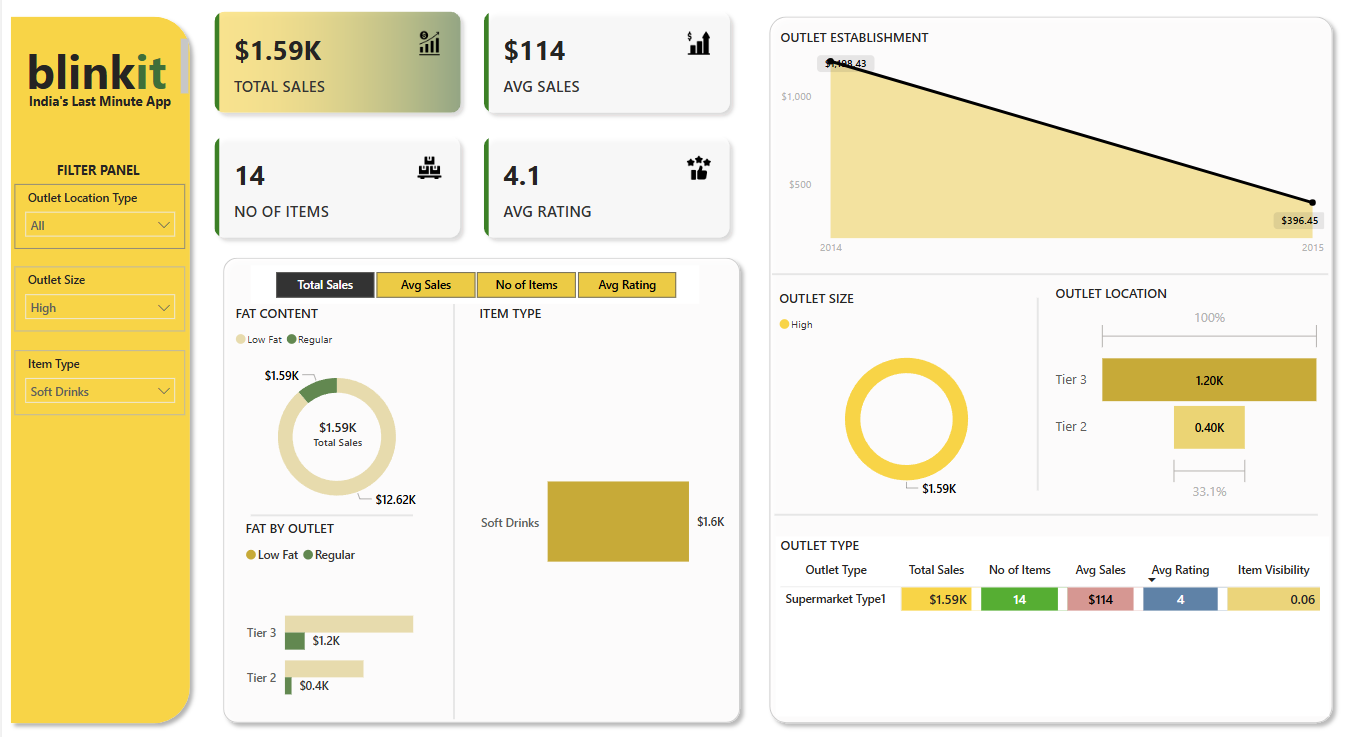

Layout of this report page (visuals, bound fields, positions):
{"tool":"powerbi","page":{"name":"Page 1","canvas":[1400,800],"ordinal":0},"visuals":[{"type":"shape","box":[0,24.1,203.8,750.7],"z":0},{"type":"textbox","box":[5.4,52.3,193,77.7],"z":1000},{"type":"textbox","box":[13.4,107.2,176.9,38.9],"z":2000},{"type":"cardVisual","fields":{"Data":["BlinkIT Grocery Data.Total Sales","BlinkIT Grocery Data.Avg Sales","BlinkIT Grocery Data.No of Items","BlinkIT Grocery Data.Avg Rating"]},"box":[203.8,12.1,569.7,269.4],"z":3000},{"type":"shape","box":[219.8,274.8,553.6,500],"z":4000},{"type":"donutChart","title":"FAT CONTENT","fields":{"Y":["BlinkIT Grocery Data.Total Sales"],"Category":["BlinkIT Grocery Data.Item Fat Content"]},"box":[237.3,331.1,219.8,230.6],"z":5000},{"type":"slicer","fields":{"Values":["Metrics.Metrics"]},"box":[257.4,290.9,465.1,40.2],"z":6000},{"type":"cardVisual","fields":{"Data":["BlinkIT Grocery Data.Total Sales"]},"box":[301.6,433,92.5,67],"z":7000},{"type":"clusteredBarChart","title":"FAT BY OUTLET","fields":{"Y":["BlinkIT Grocery Data.Total Sales"],"Category":["BlinkIT Grocery Data.Outlet Location Type"],"Series":["BlinkIT Grocery Data.Item Fat Content"]},"box":[248,555,219.8,230.6],"z":8000},{"type":"shape","box":[445,331.1,45.6,430.3],"z":9000},{"type":"shape","box":[257.4,546.9,168.9,8],"z":10000},{"type":"barChart","title":"ITEM TYPE","fields":{"Y":["BlinkIT Grocery Data.Total Sales"],"Category":["BlinkIT Grocery Data.Item Type"]},"box":[489.3,331.1,269.4,430.3],"z":11000},{"type":"shape","box":[786.9,24.1,601.9,750.7],"z":12000},{"type":"lineChart","title":"OUTLET ESTABLISHMENT","fields":{"Category":["BlinkIT Grocery Data.Outlet Establishment Year"],"Y":["BlinkIT Grocery Data.Total Sales"]},"box":[801.6,45.6,573.7,245.3],"z":13000},{"type":"shape","box":[797.6,276.1,576.4,49.6],"z":14000},{"type":"donutChart","title":"OUTLET SIZE","fields":{"Y":["BlinkIT Grocery Data.Total Sales"],"Category":["BlinkIT Grocery Data.Outlet Size"]},"box":[800.3,316.4,273.5,225.2],"z":15000},{"type":"shape","box":[1050.9,325.7,45.6,199.7],"z":16000},{"type":"funnel","title":"OUTLET LOCATION","fields":{"Y":["Sum(BlinkIT Grocery Data.Sales)"],"Category":["BlinkIT Grocery Data.Outlet Location Type"]},"box":[1087.1,311,285.5,230.6],"z":17000},{"type":"shape","box":[800.3,526.8,563,45.6],"z":18000},{"type":"pivotTable","title":"OUTLET TYPE","fields":{"Rows":["BlinkIT Grocery Data.Outlet Type"],"Values":["BlinkIT Grocery Data.Total Sales","BlinkIT Grocery Data.No of Items","BlinkIT Grocery Data.Avg Sales","BlinkIT Grocery Data.Avg Rating","Avg(BlinkIT Grocery Data.Item Visibility)"]},"box":[801.6,572.4,573.7,186.3],"z":19000},{"type":"slicer","fields":{"Values":["BlinkIT Grocery Data.Outlet Location Type"]},"box":[13.4,207.8,176.9,67],"z":20000},{"type":"slicer","fields":{"Values":["BlinkIT Grocery Data.Outlet Size"]},"box":[13.4,292.2,176.9,67],"z":20001},{"type":"slicer","fields":{"Values":["BlinkIT Grocery Data.Item Type"]},"box":[13.4,379.4,176.9,67],"z":20002},{"type":"textbox","box":[52.3,178.3,119.3,29.5],"z":20003}]}

Visuals, with their boxes on the page's 1400x800 design canvas (x1, y1, x2, y2). These are canvas units, not pixel positions in the 1345x737 screenshot, which may show the page scaled, cropped or inside an application window:
shape: [0,24,204,775]
textbox: [5,52,198,130]
textbox: [13,107,190,146]
cardVisual - BlinkIT Grocery Data.Total Sales x BlinkIT Grocery Data.Avg Sales: [204,12,774,282]
shape: [220,275,773,775]
"FAT CONTENT" donutChart: [237,331,457,562]
slicer - Metrics.Metrics: [257,291,722,331]
cardVisual - BlinkIT Grocery Data.Total Sales: [302,433,394,500]
"FAT BY OUTLET" clusteredBarChart: [248,555,468,786]
shape: [445,331,491,761]
shape: [257,547,426,555]
"ITEM TYPE" barChart: [489,331,759,761]
shape: [787,24,1389,775]
"OUTLET ESTABLISHMENT" lineChart: [802,46,1375,291]
shape: [798,276,1374,326]
"OUTLET SIZE" donutChart: [800,316,1074,542]
shape: [1051,326,1096,525]
"OUTLET LOCATION" funnel: [1087,311,1373,542]
shape: [800,527,1363,572]
"OUTLET TYPE" pivotTable: [802,572,1375,759]
slicer - BlinkIT Grocery Data.Outlet Location Type: [13,208,190,275]
slicer - BlinkIT Grocery Data.Outlet Size: [13,292,190,359]
slicer - BlinkIT Grocery Data.Item Type: [13,379,190,446]
textbox: [52,178,172,208]
